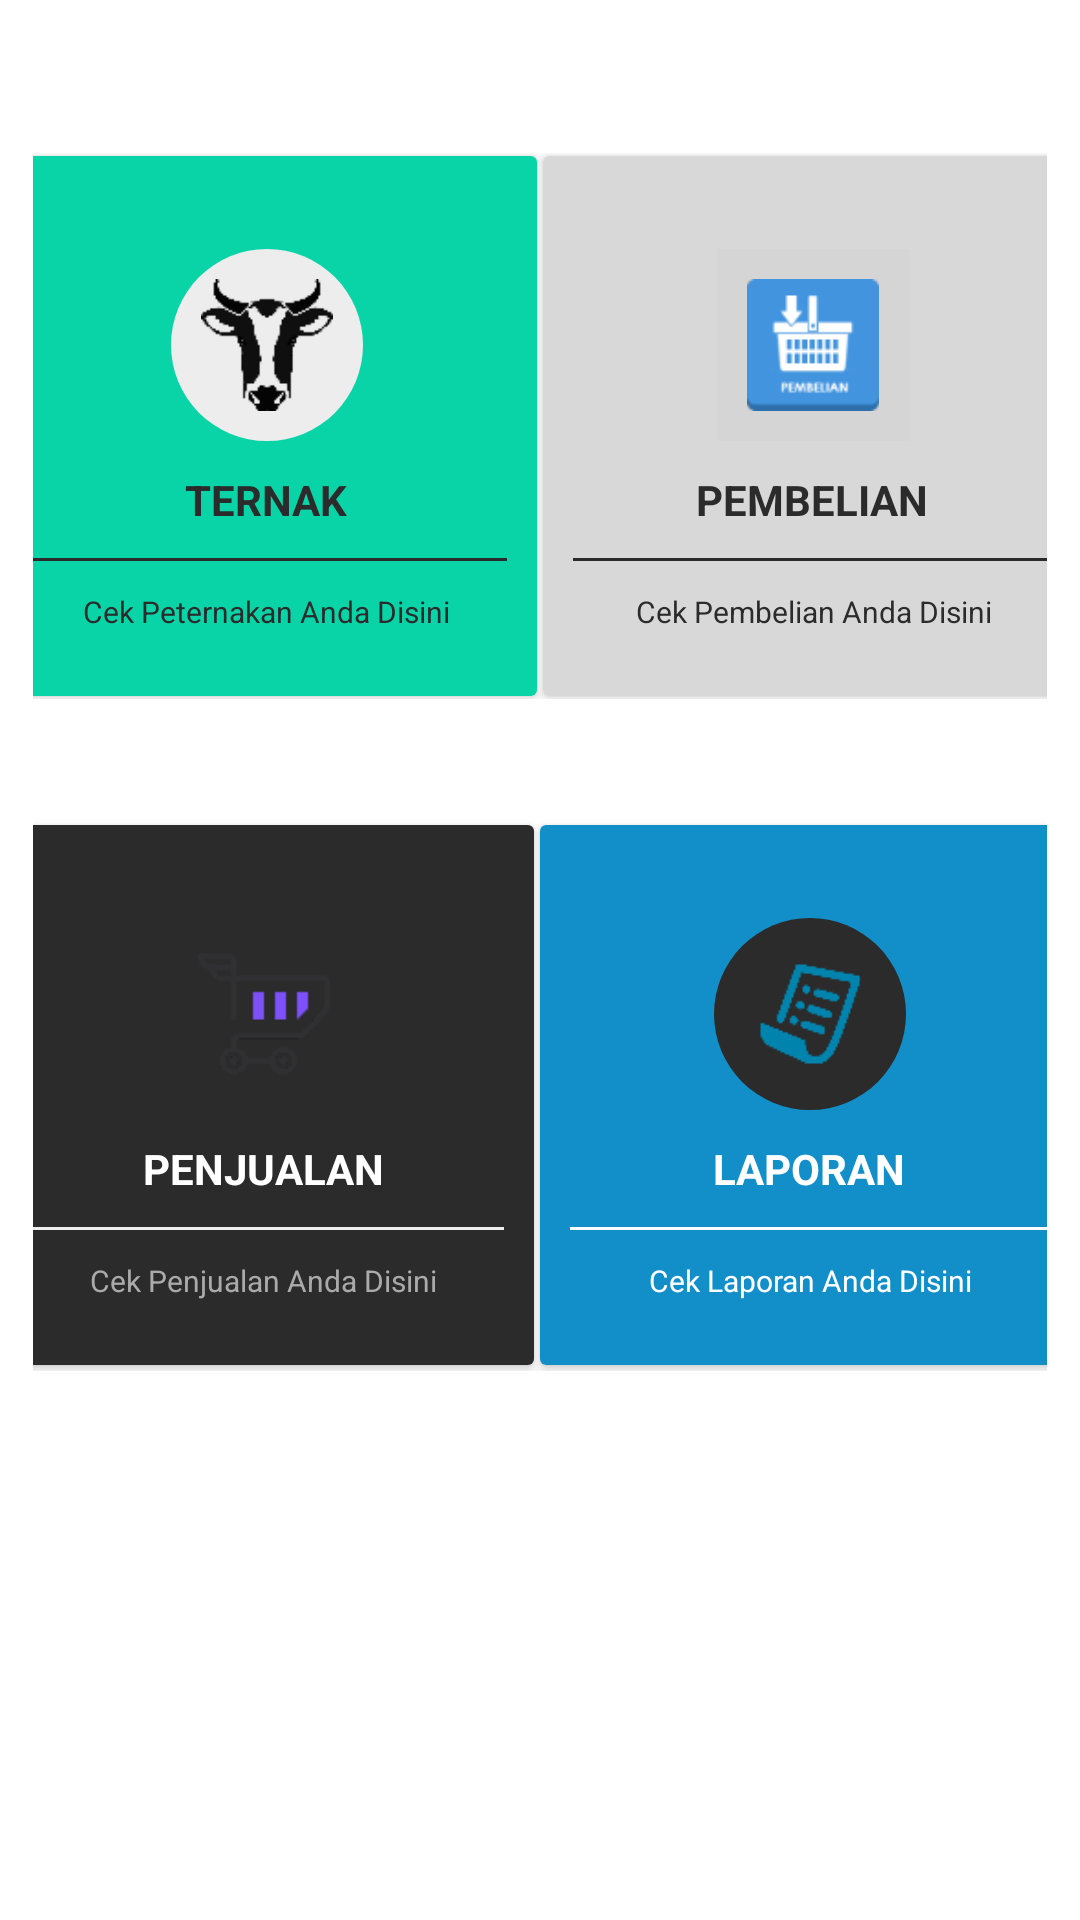

Icons on this 1080×1920 Android screen, each with its box as (x1,y1,x2,y2):
sapi: (171,249,363,441)
